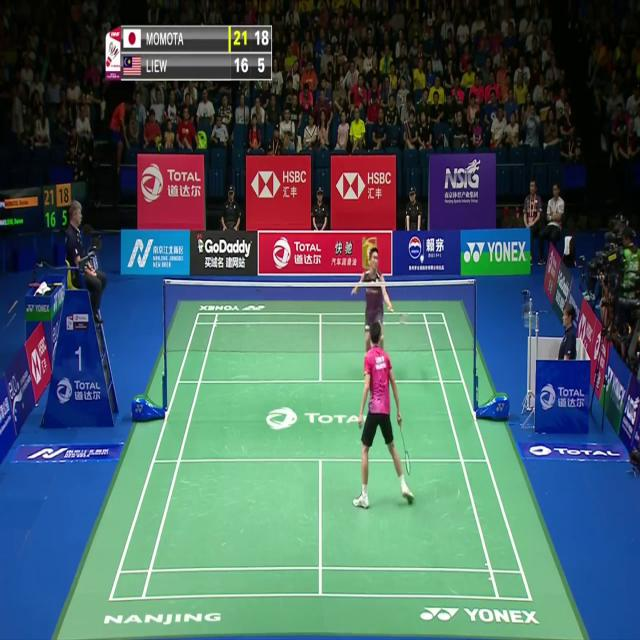Shuttlecock: (418, 252, 425, 264)
